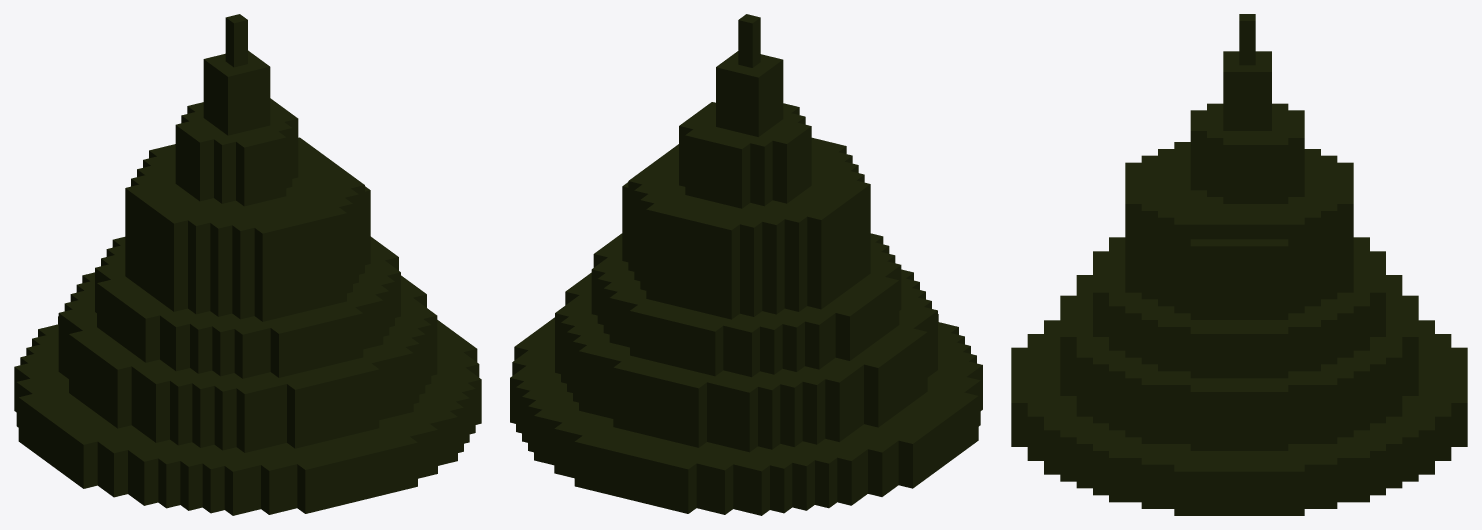
Rendered from darktree-0.obj.
3 renders of one model, left to right at view 1: azimuth 30°, elevation 25°; view 2: azimuth 150°, elevation 25°; view 3: azimuth 270°, elevation 25°, orthographic.
Bounding box in the file's own units: 2.8 × 2.7 × 2.8.
Materials: 1 (1 with a texture image).
